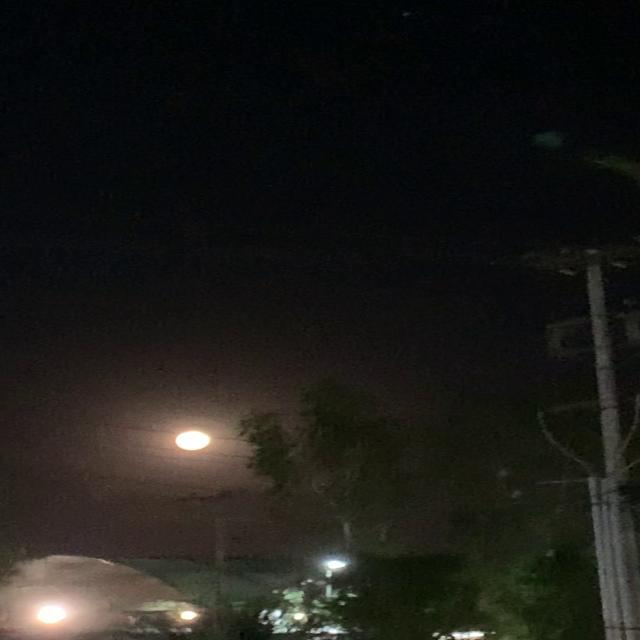moon: (173, 430, 216, 454)
